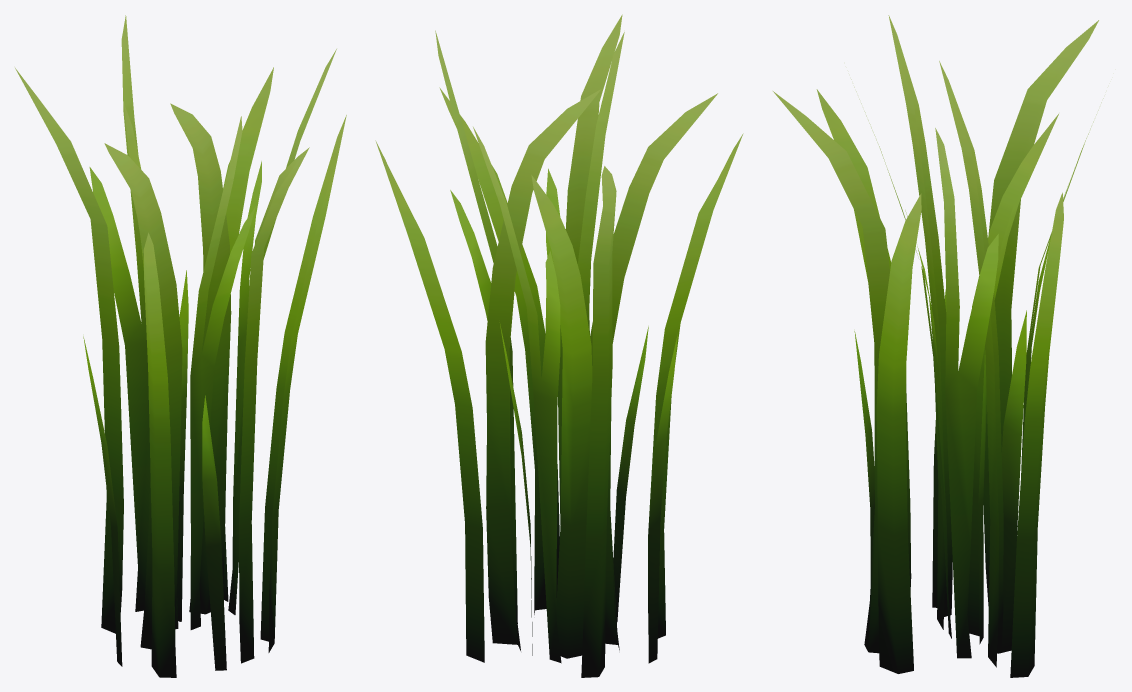
The model's file is grass.glb.
The picture shows the model from 3 angles, left to right: view 1: azimuth 30°, elevation 25°; view 2: azimuth 150°, elevation 25°; view 3: azimuth 270°, elevation 25°; orthographic projection. The views are drawn at different scales.
Visible parts, largest first — view 1: Grass_Common_Tall; view 2: Grass_Common_Tall; view 3: Grass_Common_Tall.
Boxes of the visible parts, bbox=[...] form: Grass_Common_Tall: bbox=[15, 15, 346, 677]; Grass_Common_Tall: bbox=[375, 14, 743, 677]; Grass_Common_Tall: bbox=[773, 15, 1103, 677].
Bounding box in the file's own units: 0.8951 × 1.87 × 0.9931.
1 material, 1 textured.
